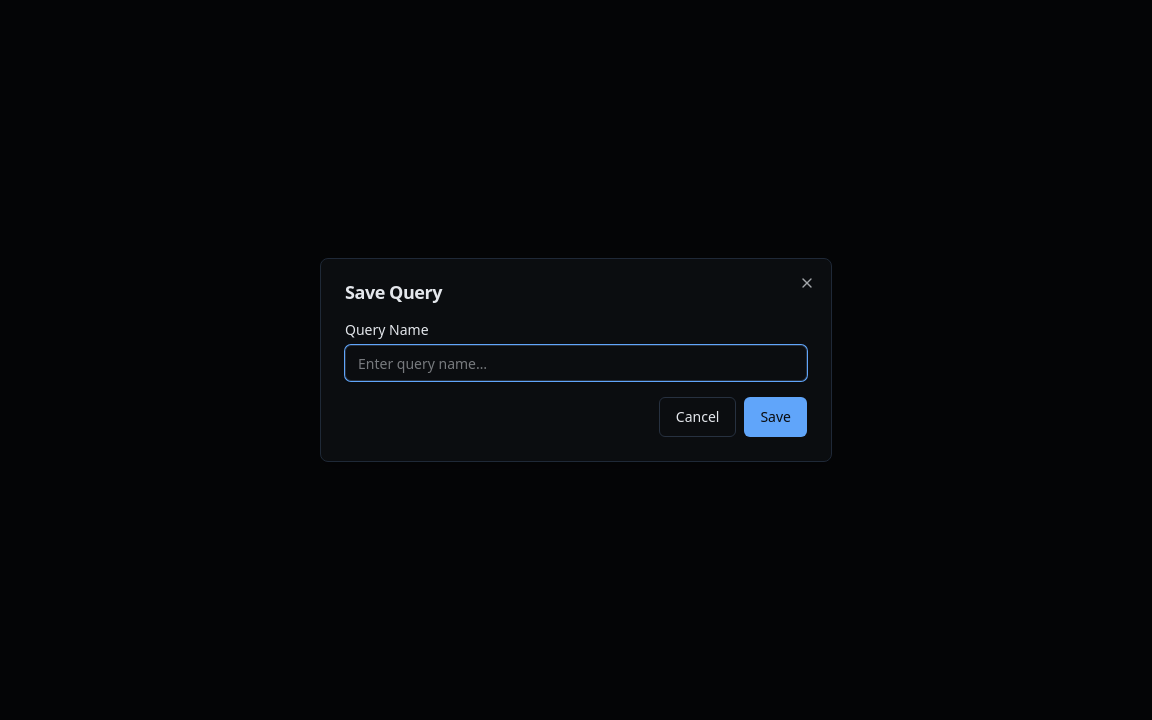
Test: SaveQueryModal › shows required error when submitting with empty name
Click the button with test id "save-query-submit".
click(776, 417)  # box [744,397,807,437]
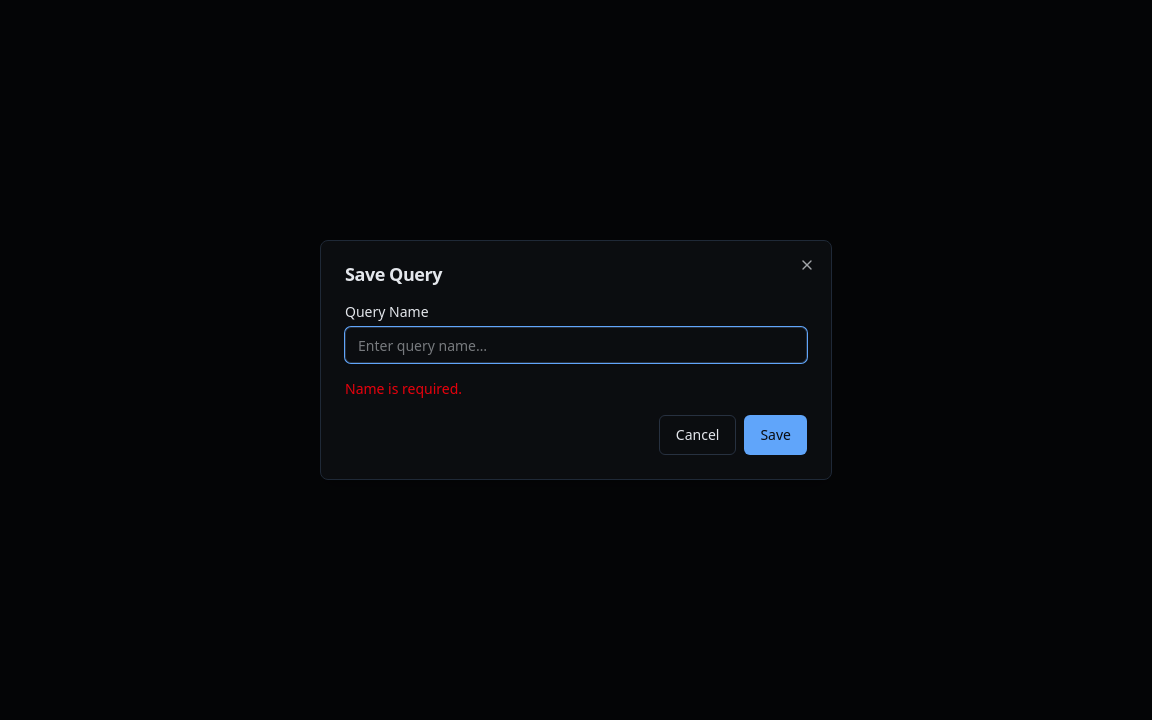
Result: the message with test id "save-query-error" reads "Name is required." at [345,379,462,398]
